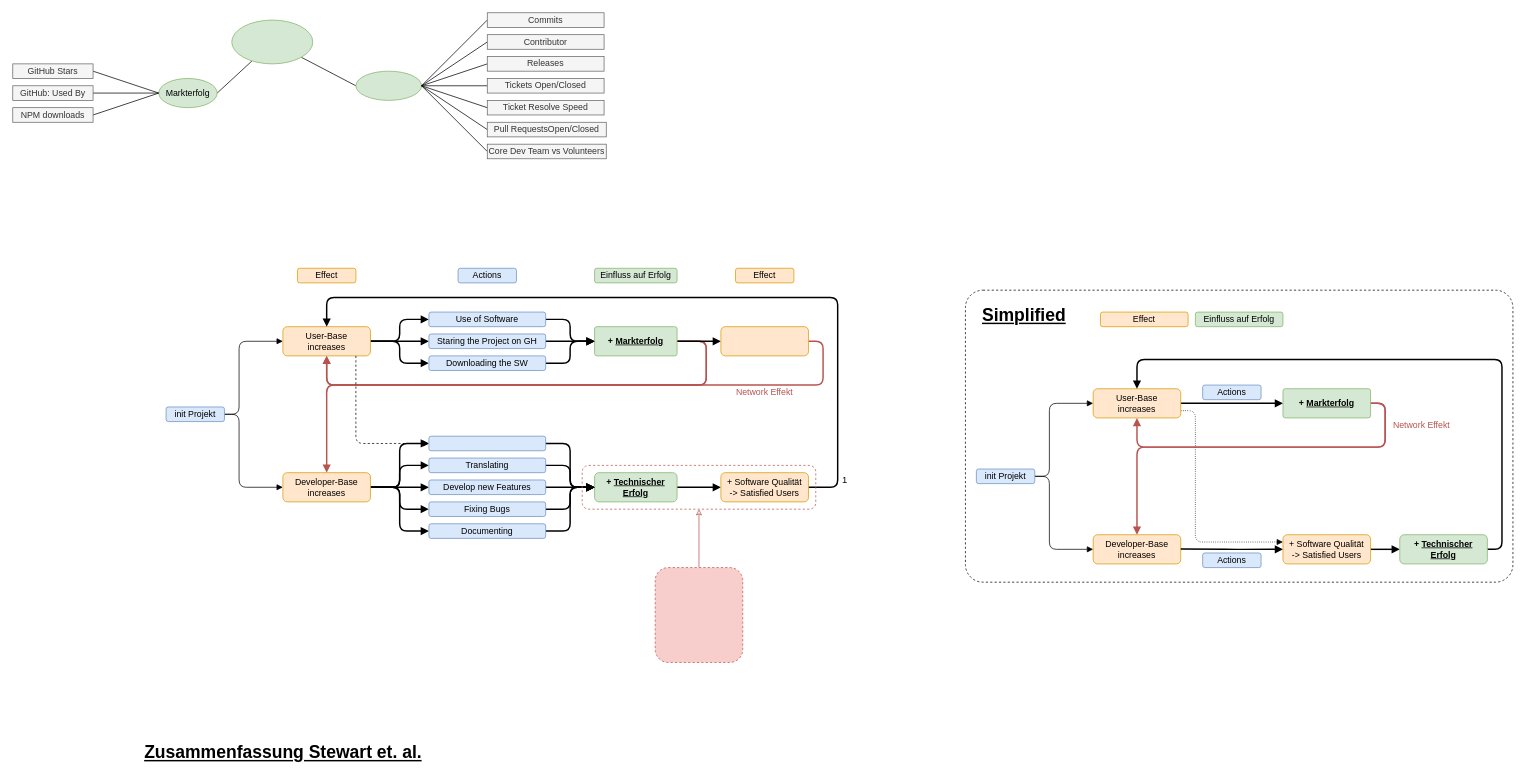
Image size: 1526x777. Some labels were removed from this diagram. The shapes that lost their labels are listed below. From the top down, each one's box as (x1, y1, x2, y2) in pixels, then its label:
(231, 19, 313, 64): Erfolg
(355, 70, 422, 100): Technischen Erfolg
(720, 326, 808, 356): + Project Sponsors
(428, 435, 546, 451): Report Bugs
(654, 567, 743, 662): Kann man diskutieren ob TE => SQ oder SQ => TE
